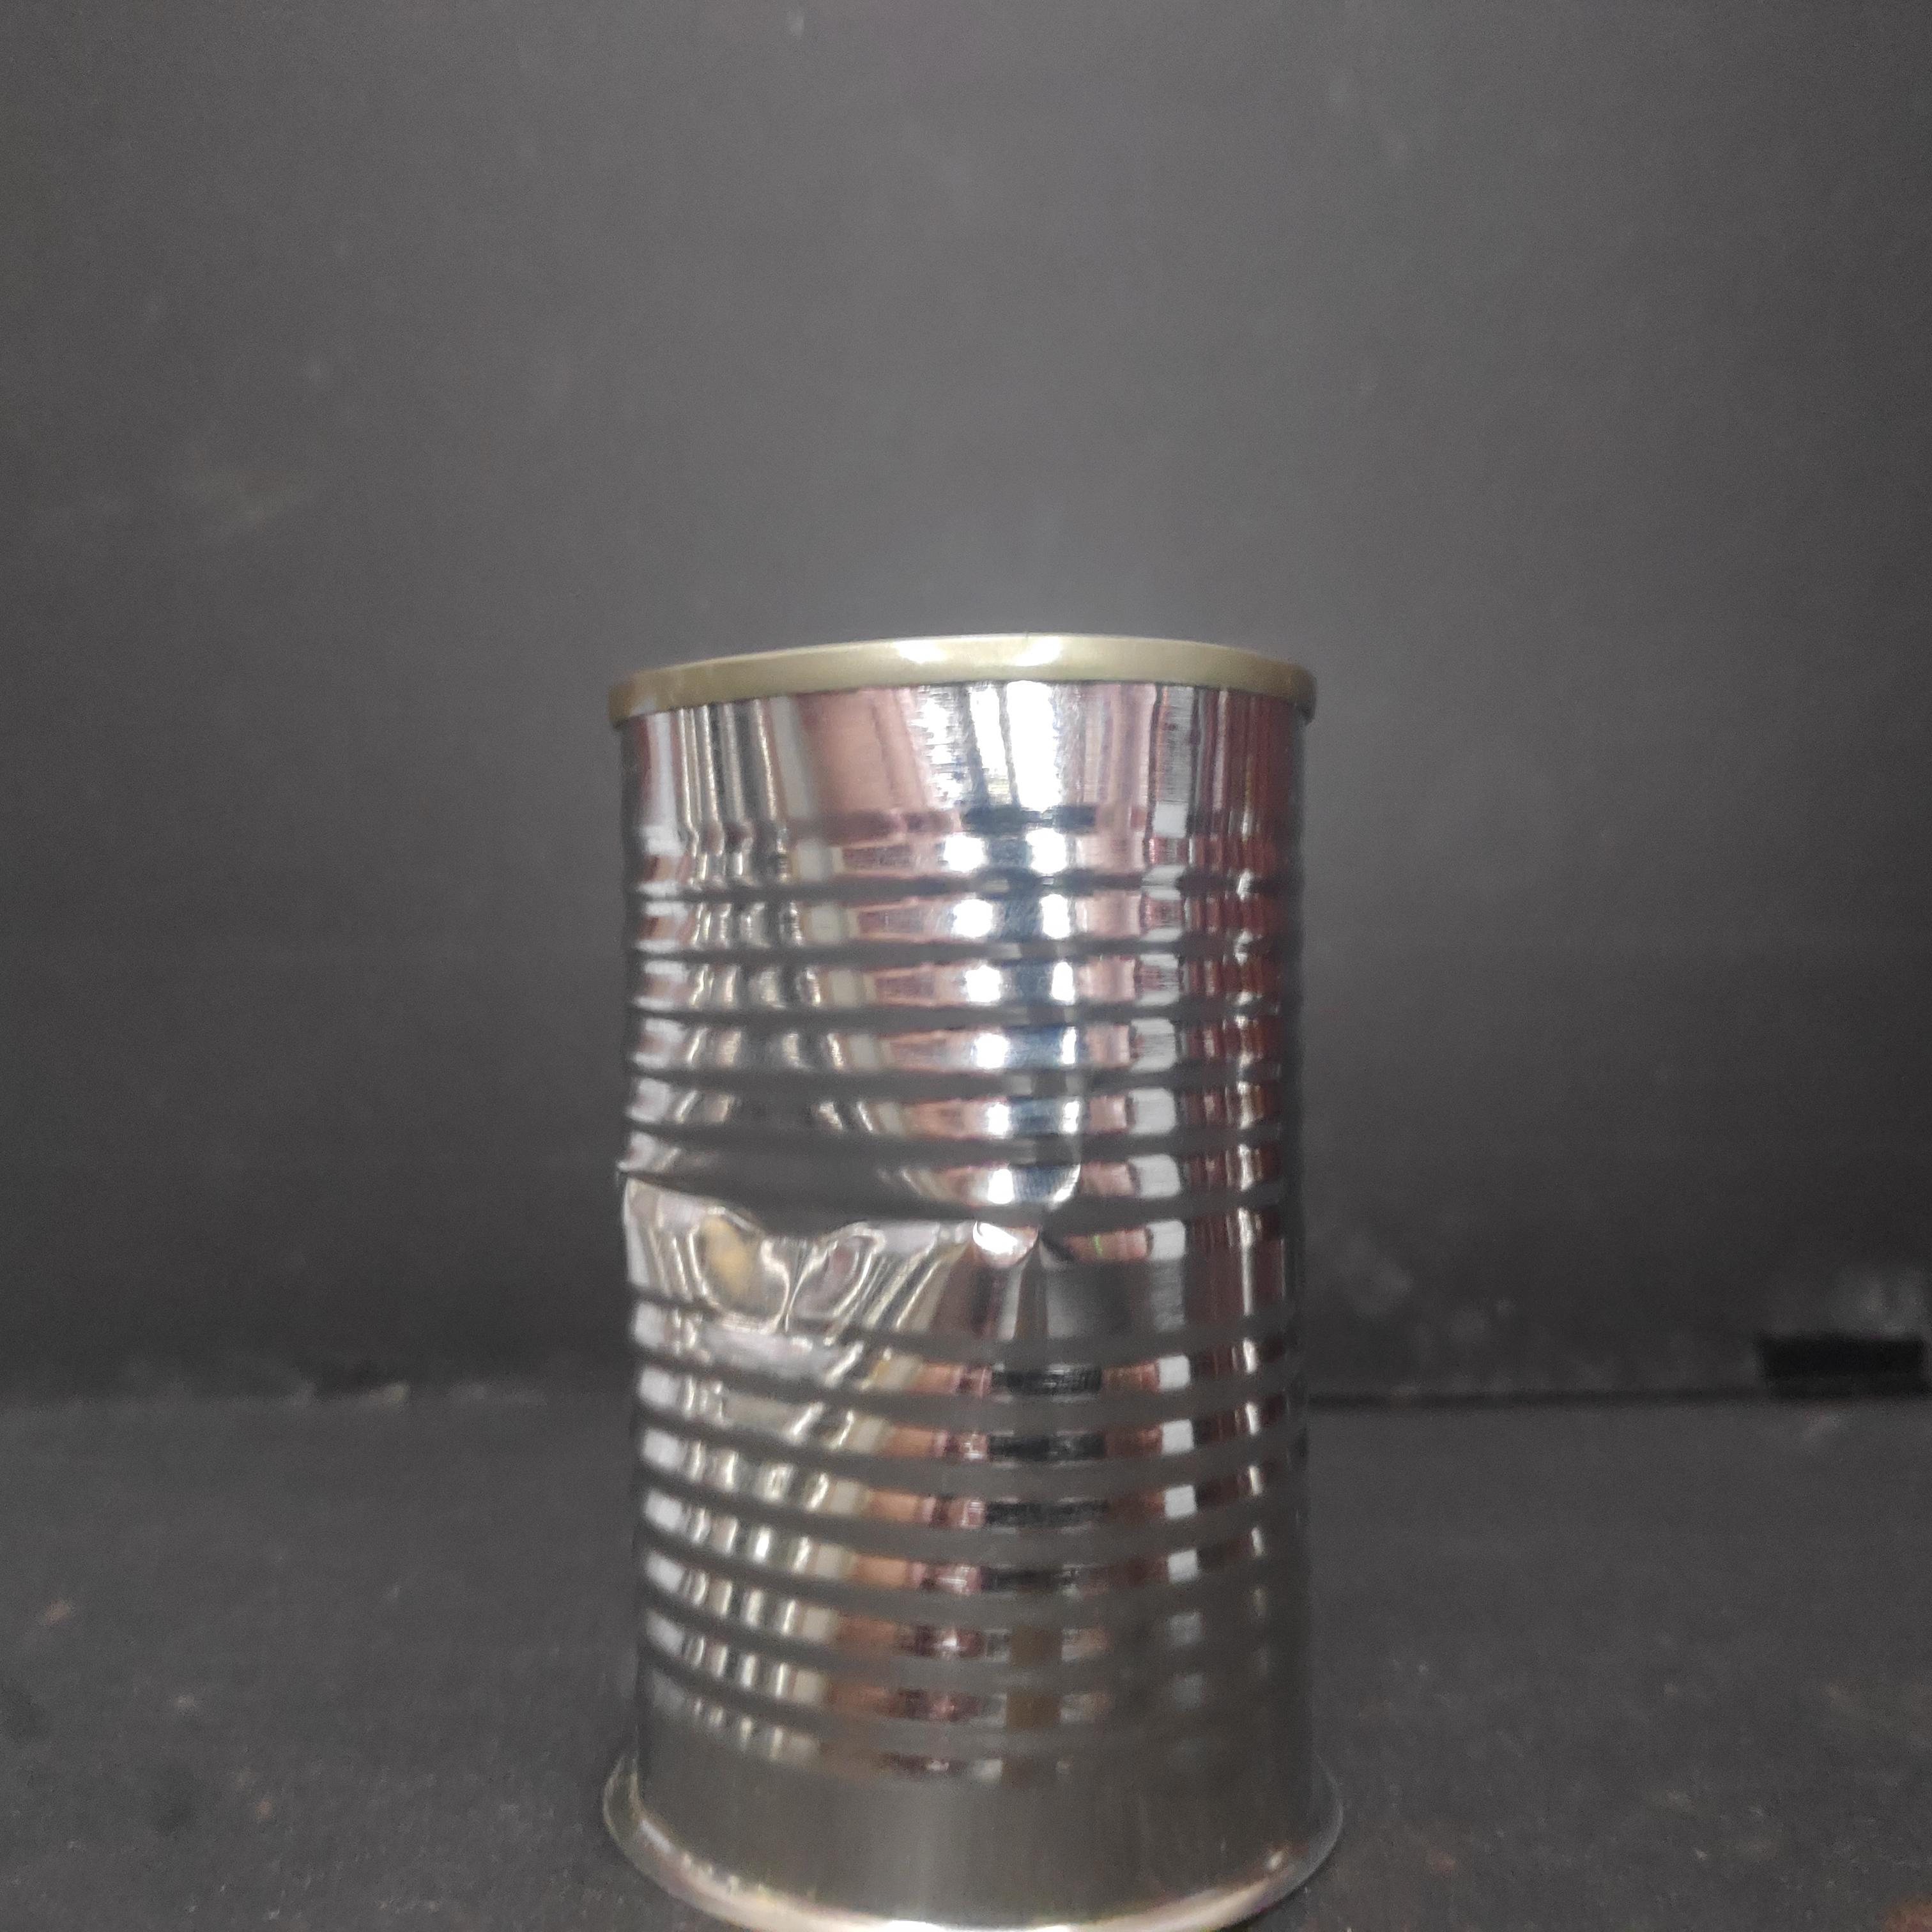Minor Defect: (602, 623, 1338, 1932)
